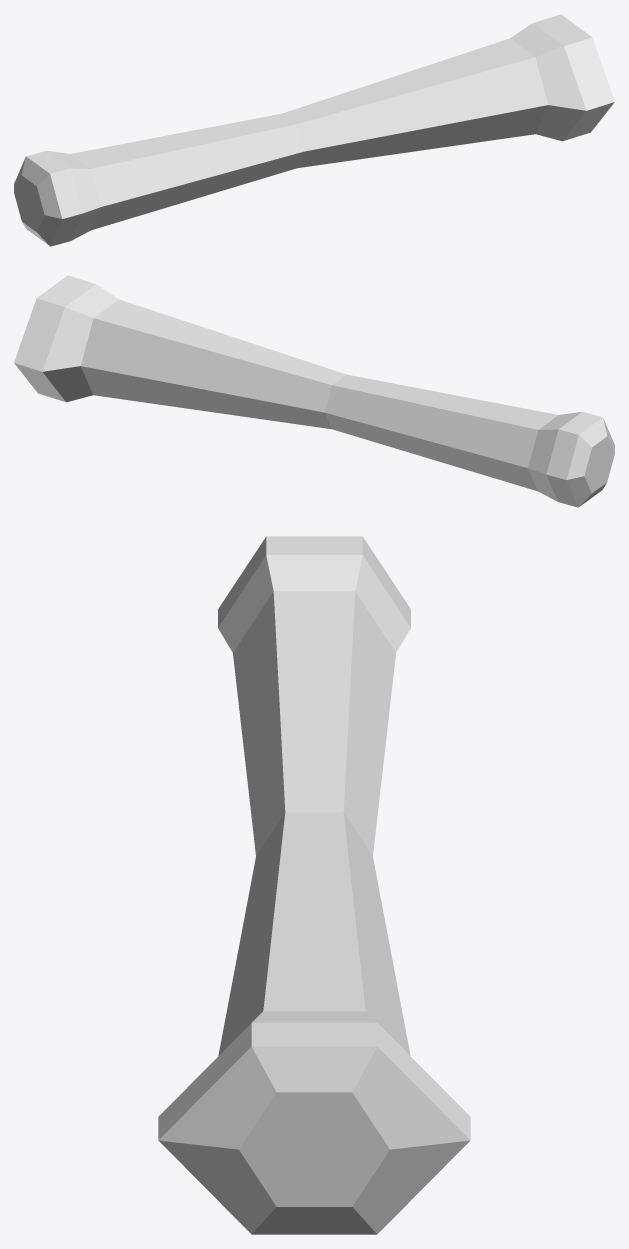
File: SkeletonBone.fbx
The picture shows the model from 3 angles, top to bottom: view 1: azimuth 30°, elevation 25°; view 2: azimuth 150°, elevation 25°; view 3: azimuth 270°, elevation 25°; orthographic projection. The views are drawn at different scales.
Visible parts, largest first — view 1: SkeletonBone; view 2: SkeletonBone; view 3: SkeletonBone.
Boxes of the visible parts, x1,y1,x2,y2 form: SkeletonBone: (14,14,614,246); SkeletonBone: (14,275,614,507); SkeletonBone: (158,536,470,1234).
Size of the model in its own units: 34.36 by 5.72 by 8.36.
1 material, 1 textured.
